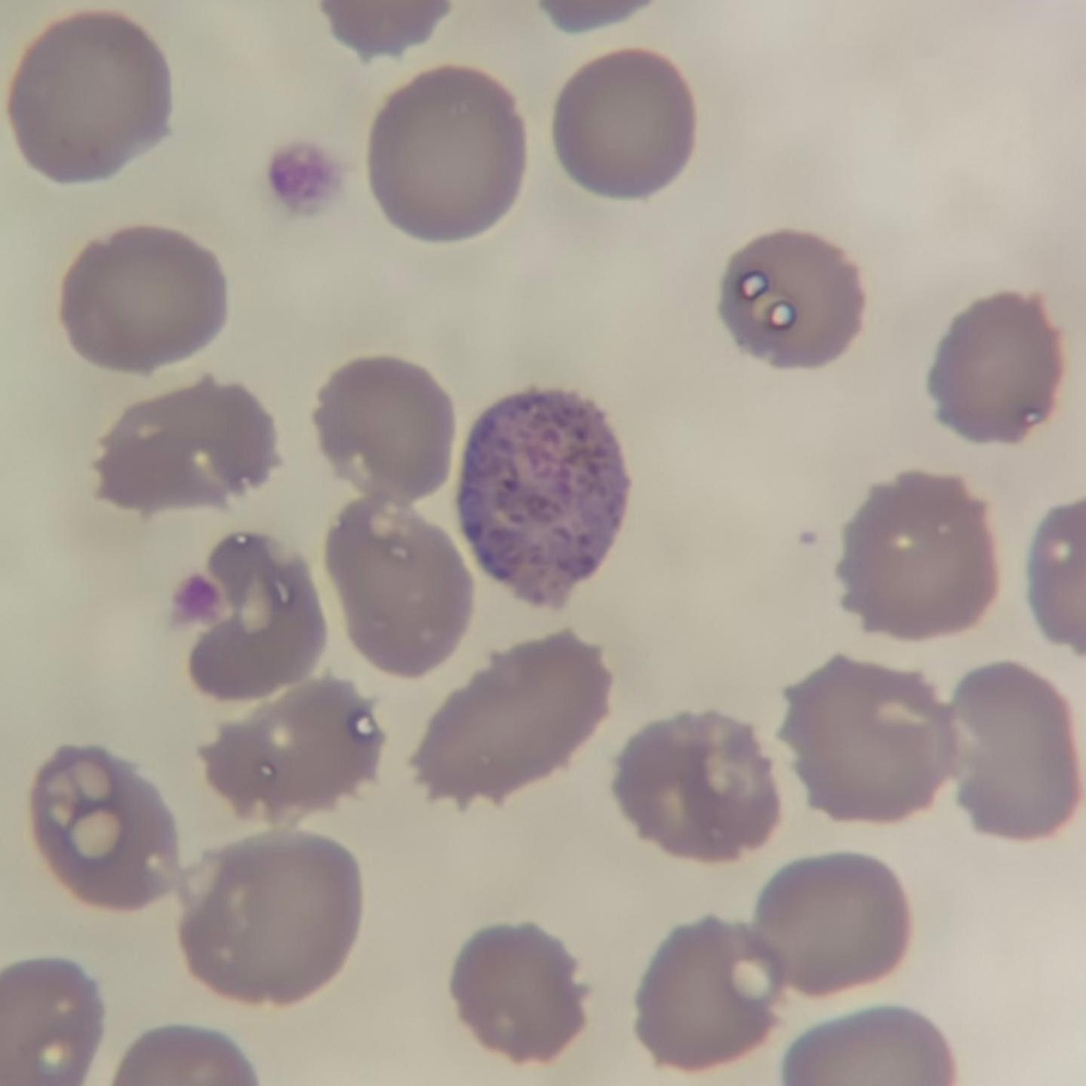Infected: (460, 388, 632, 615)
Uninfected: (415, 627, 614, 816), (179, 826, 357, 1011), (780, 655, 961, 820), (840, 466, 1003, 640), (372, 66, 525, 246), (10, 16, 166, 189), (327, 499, 475, 677), (55, 222, 235, 367), (33, 740, 181, 916), (194, 685, 384, 818), (943, 657, 1078, 842), (619, 705, 778, 860), (188, 527, 325, 702), (96, 381, 277, 508), (719, 227, 872, 372), (634, 917, 776, 1072), (752, 854, 912, 989), (558, 46, 694, 199), (453, 917, 589, 1063), (312, 353, 449, 494), (931, 285, 1060, 434)
